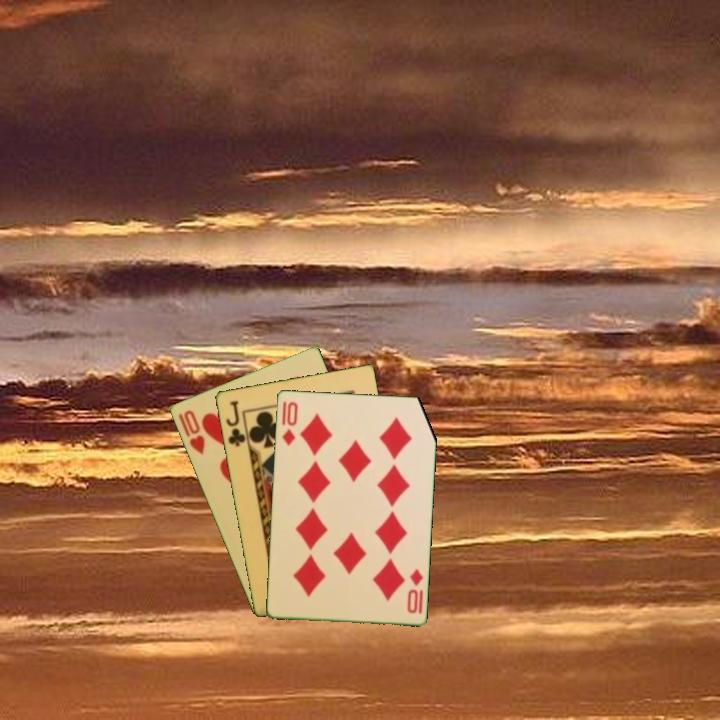10d: (403, 565, 426, 616), (278, 398, 300, 448)
10h: (180, 406, 208, 457)
Jc: (222, 397, 248, 449)
